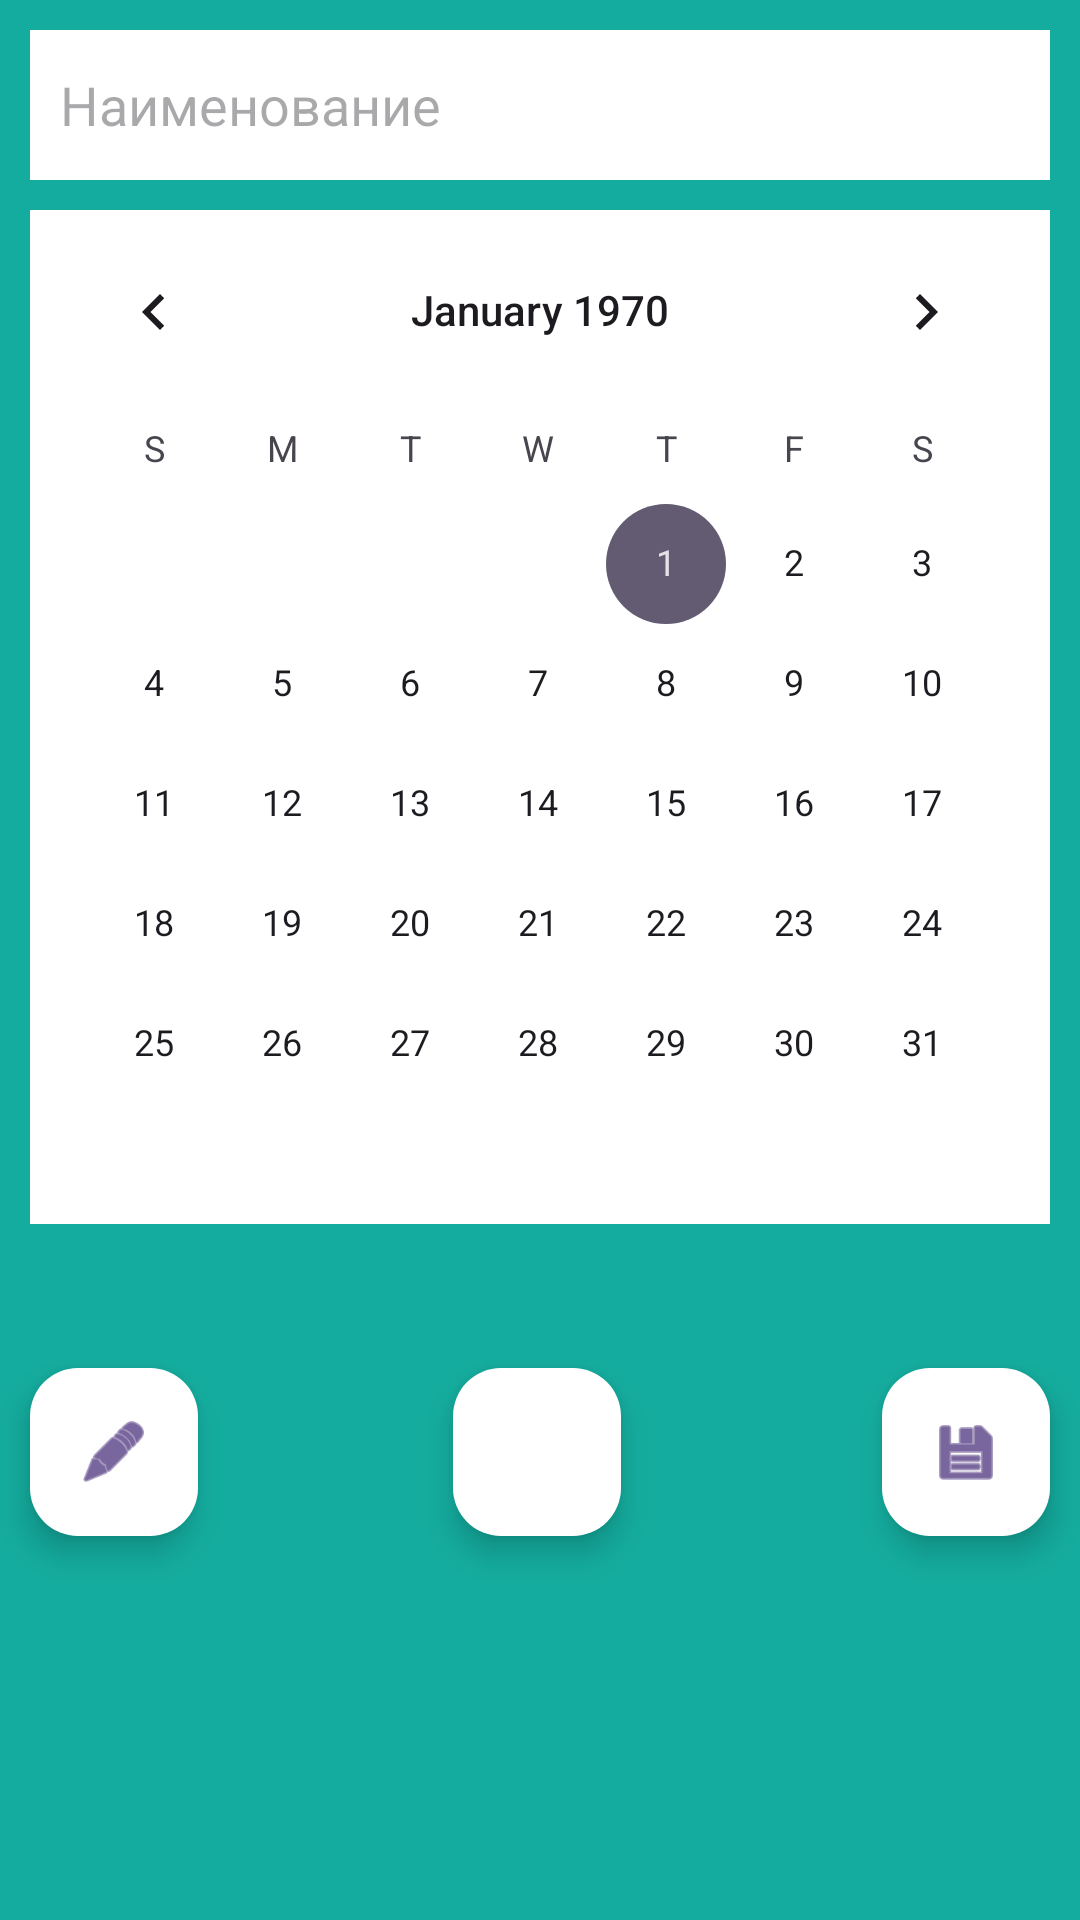

Icons on this 1080px x 1920px Android screen, each with its box as region(x1, y1, x2, y2):
save: region(882, 1368, 1050, 1536)
Редактирование: region(30, 1368, 198, 1536)
